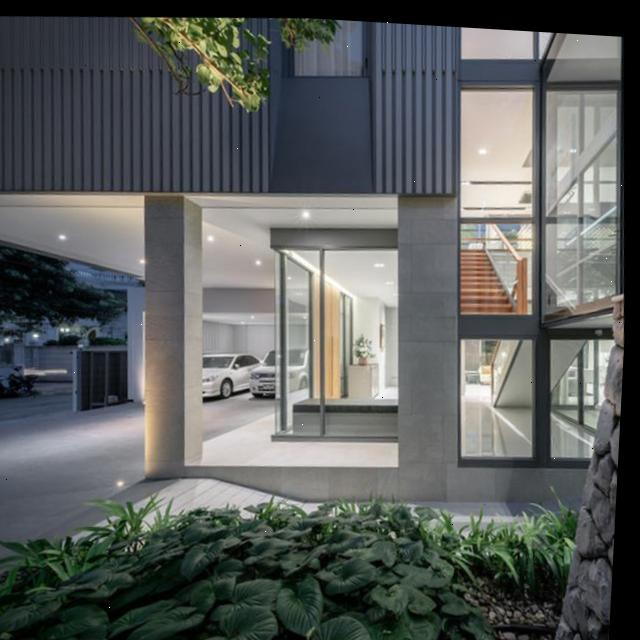building: (0, 0, 640, 548)
